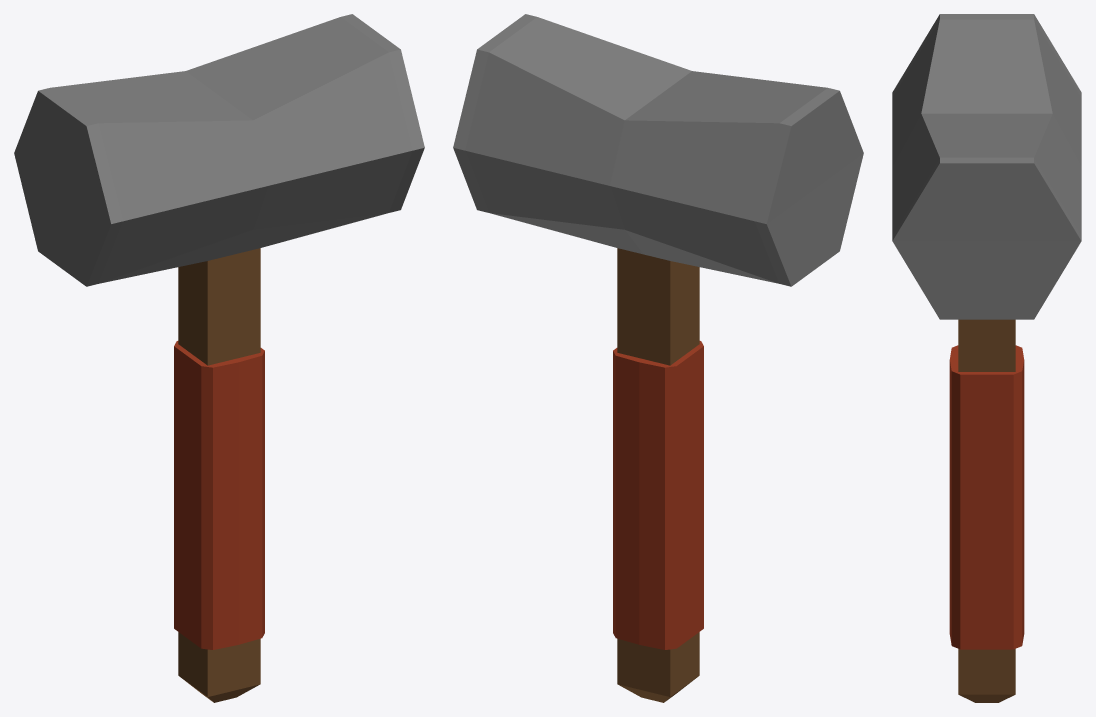
The model's file is hammer.fbx.
The picture shows the model from 3 angles, left to right: view 1: azimuth 30°, elevation 25°; view 2: azimuth 150°, elevation 25°; view 3: azimuth 270°, elevation 25°; orthographic projection. The views are drawn at different scales.
Parts seen in each view (by area): view 1: Cube; view 2: Cube; view 3: Cube.
Part boxes in pixels (left/top/right/bottom): Cube: left=14, top=14, right=424, bottom=702; Cube: left=453, top=14, right=863, bottom=702; Cube: left=892, top=14, right=1081, bottom=702.
Bounding box in the file's own units: 395 × 752 × 212.
